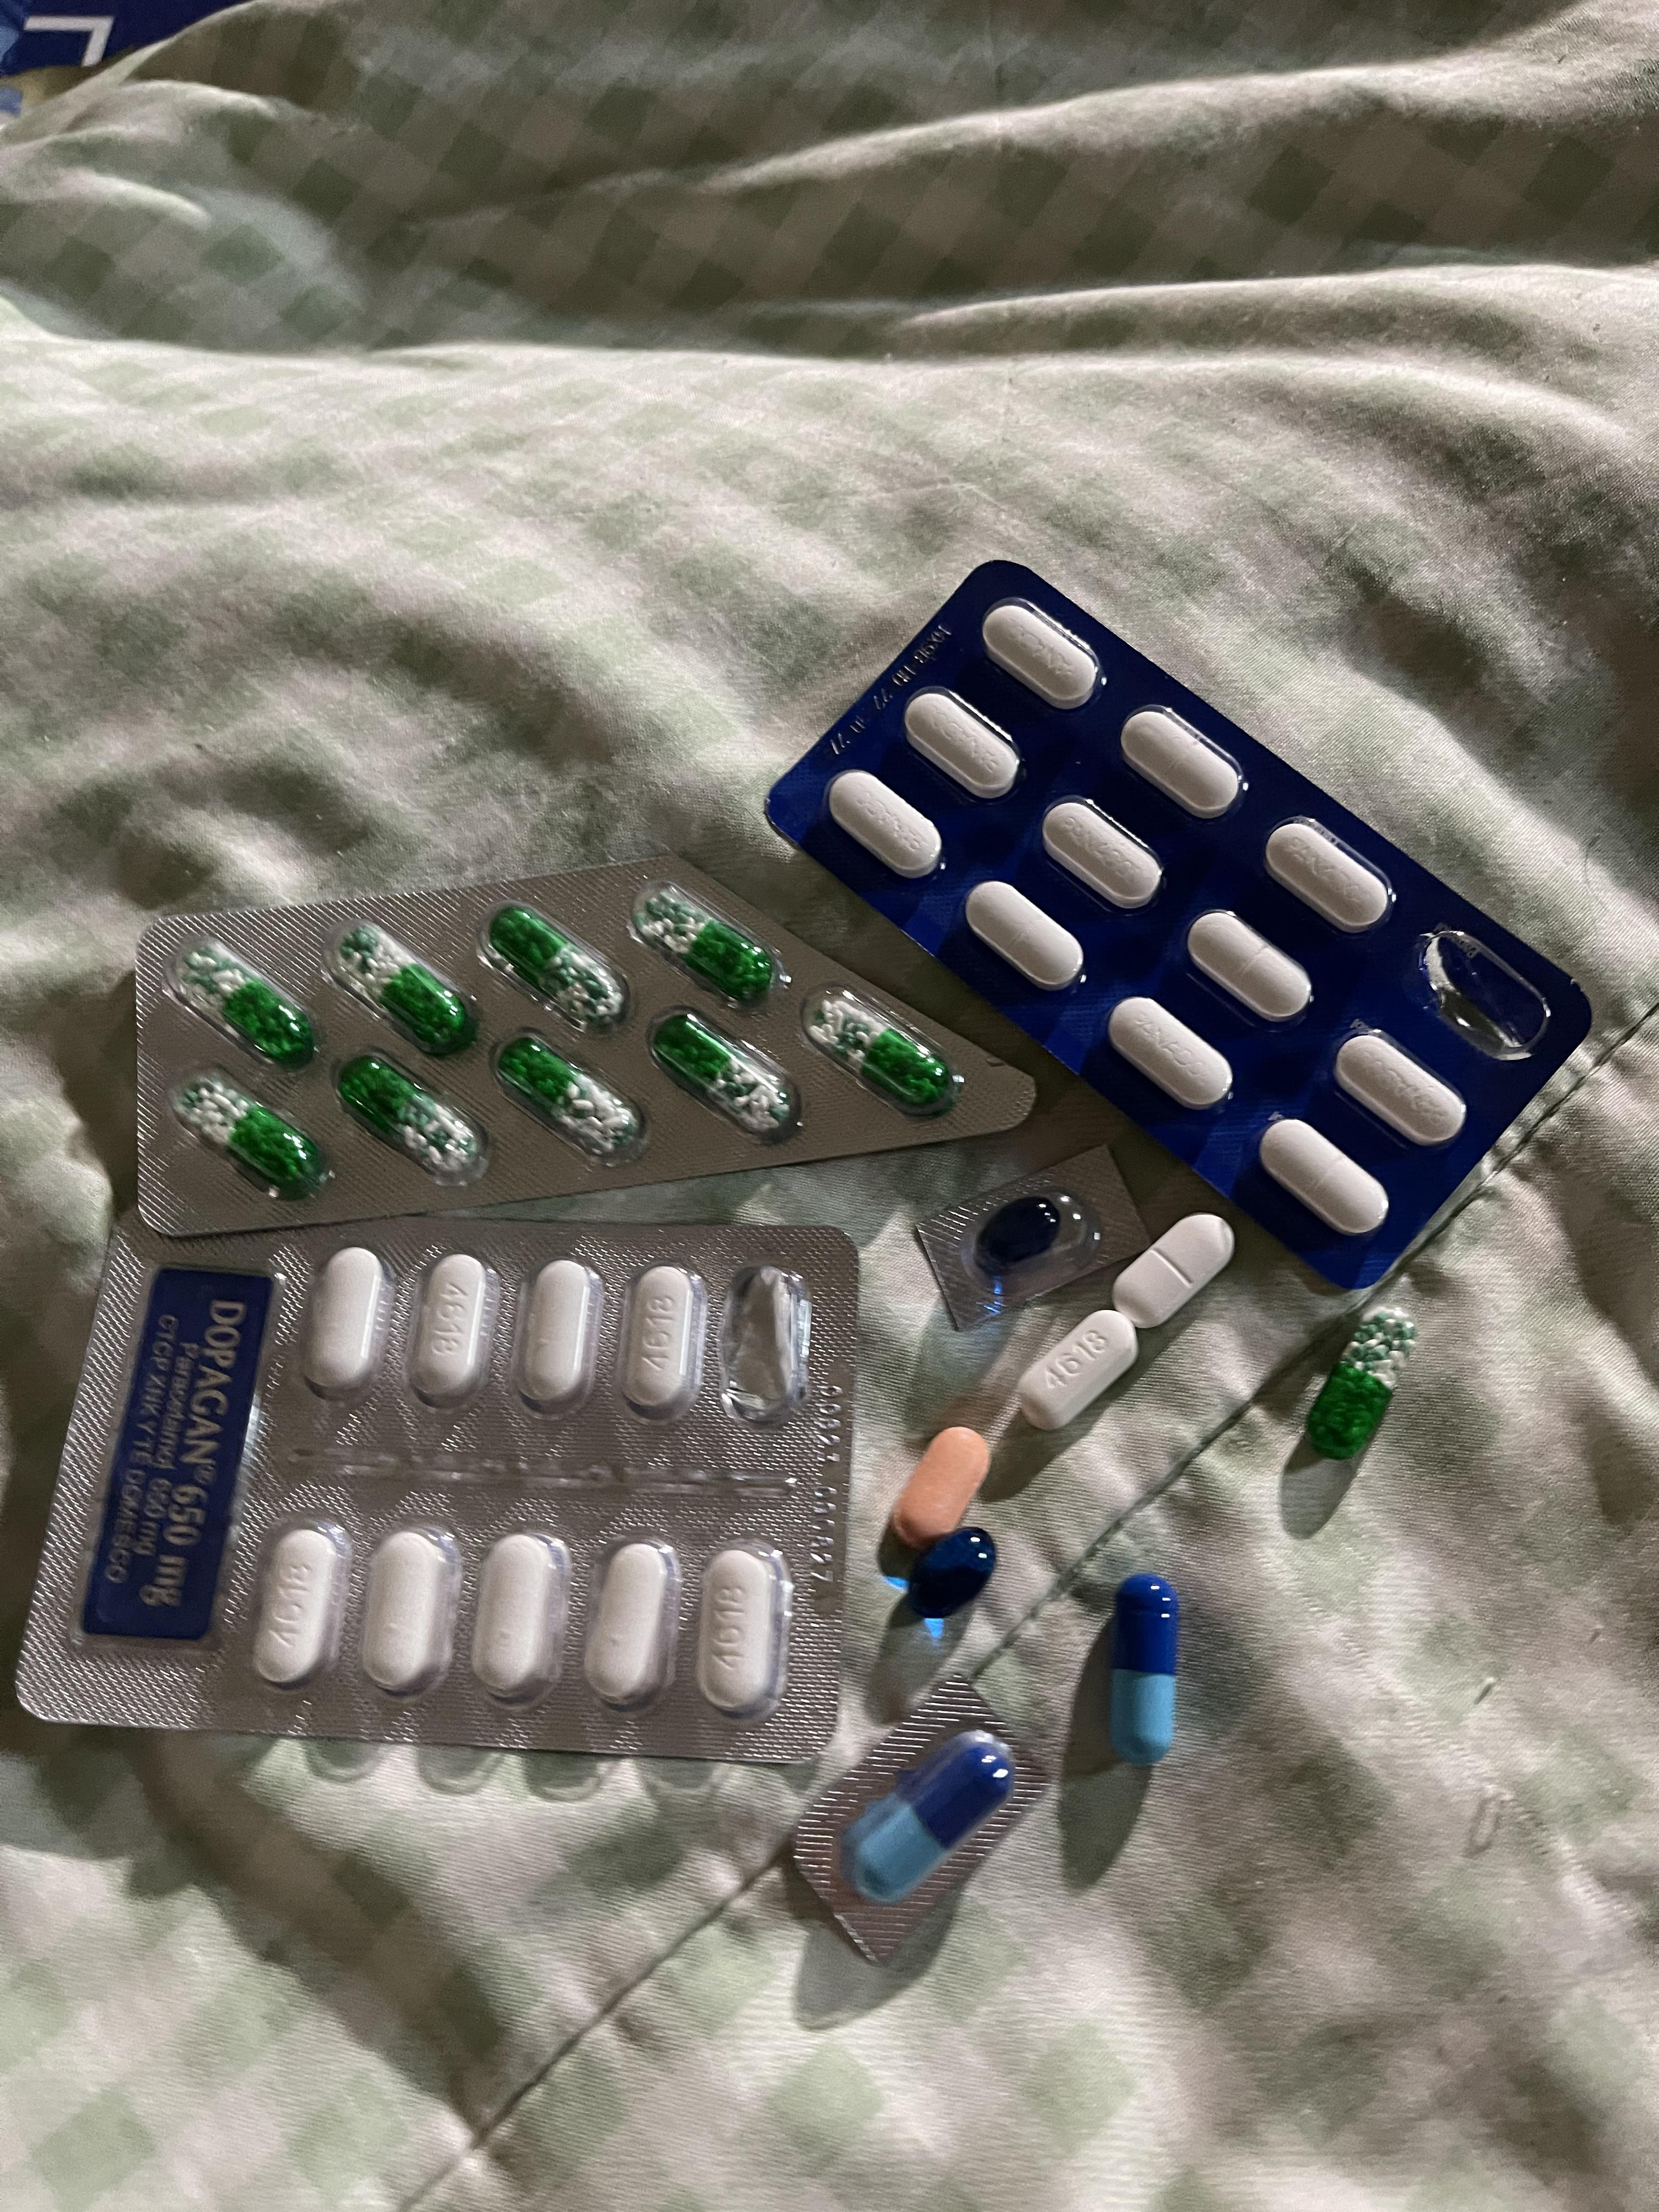Lincomyxin_500mg: (906, 1527, 999, 1625), (972, 1193, 1075, 1278)
Loratadine_10mg: (896, 1426, 990, 1548)
Paracetamol_350mg: (1333, 1029, 1466, 1146), (1258, 1115, 1391, 1226), (1187, 909, 1314, 1022), (1121, 707, 1248, 820), (1265, 819, 1392, 930), (1108, 998, 1232, 1109), (1042, 799, 1162, 911), (1115, 1212, 1234, 1324), (965, 881, 1084, 991), (983, 599, 1101, 707), (904, 690, 1019, 799), (828, 772, 939, 878)
Paracetamol_500mg: (469, 1531, 570, 1703), (580, 1538, 680, 1709), (359, 1526, 458, 1695), (695, 1545, 791, 1716), (251, 1522, 349, 1684), (1016, 1310, 1138, 1426), (411, 1254, 498, 1406), (519, 1259, 605, 1411), (305, 1249, 392, 1395), (619, 1263, 702, 1414)
Paracetamol_650mg: (331, 921, 479, 1055), (338, 1054, 484, 1181), (650, 1008, 791, 1137), (178, 1076, 328, 1195), (486, 907, 629, 1029), (493, 1035, 638, 1155), (1305, 1308, 1419, 1458), (636, 885, 779, 1001), (178, 944, 314, 1059), (816, 998, 943, 1113)
pill: (843, 1726, 1012, 1902), (1108, 1571, 1182, 1766)
